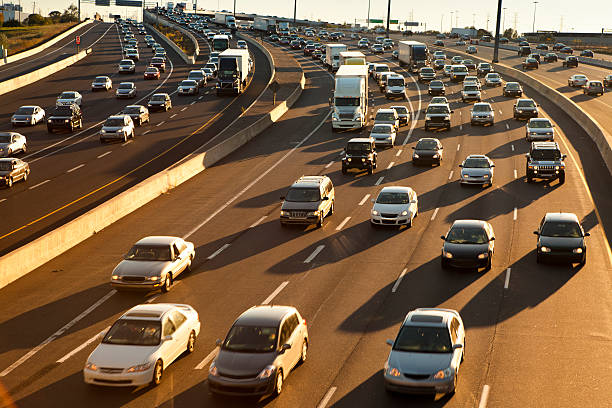bus: (213, 36, 229, 57)
car: (84, 302, 199, 387), (209, 305, 310, 398), (384, 307, 464, 398), (111, 235, 193, 291), (281, 174, 336, 229), (442, 220, 495, 272), (539, 212, 586, 267), (369, 187, 421, 229), (526, 142, 564, 187), (344, 138, 379, 176), (461, 154, 495, 187), (413, 137, 445, 169), (48, 103, 82, 133), (98, 115, 135, 142), (1, 158, 31, 190), (424, 103, 451, 131), (12, 104, 45, 126), (527, 117, 555, 142), (1, 131, 30, 155), (468, 102, 493, 127), (513, 97, 537, 122), (385, 74, 407, 101), (376, 107, 398, 132), (373, 122, 393, 148), (124, 104, 148, 125), (148, 92, 171, 112), (56, 91, 83, 106), (451, 62, 468, 83), (583, 80, 604, 97), (177, 80, 199, 96), (188, 70, 207, 88), (461, 85, 479, 103), (486, 72, 503, 91), (116, 82, 136, 98), (373, 61, 389, 81), (91, 75, 111, 90), (568, 74, 589, 88), (427, 81, 445, 97), (418, 67, 436, 83), (502, 82, 521, 97), (521, 57, 540, 71), (150, 57, 166, 73), (118, 59, 135, 72), (144, 67, 160, 80), (126, 49, 139, 62), (565, 55, 580, 66), (302, 45, 316, 56), (581, 46, 593, 58), (371, 43, 384, 54), (289, 40, 301, 51), (156, 48, 167, 59), (546, 52, 558, 62), (467, 46, 479, 55), (537, 42, 550, 50), (358, 39, 369, 48), (519, 46, 530, 55), (127, 39, 137, 48), (238, 40, 248, 49), (280, 35, 290, 44), (433, 40, 445, 47), (146, 39, 155, 47), (329, 33, 338, 41), (138, 29, 147, 35), (306, 32, 316, 37), (123, 28, 131, 34), (189, 22, 196, 28), (202, 22, 208, 28)
truck: (331, 66, 369, 131), (216, 52, 248, 93), (399, 41, 427, 70), (327, 44, 348, 73), (254, 17, 276, 36), (215, 12, 236, 30)
